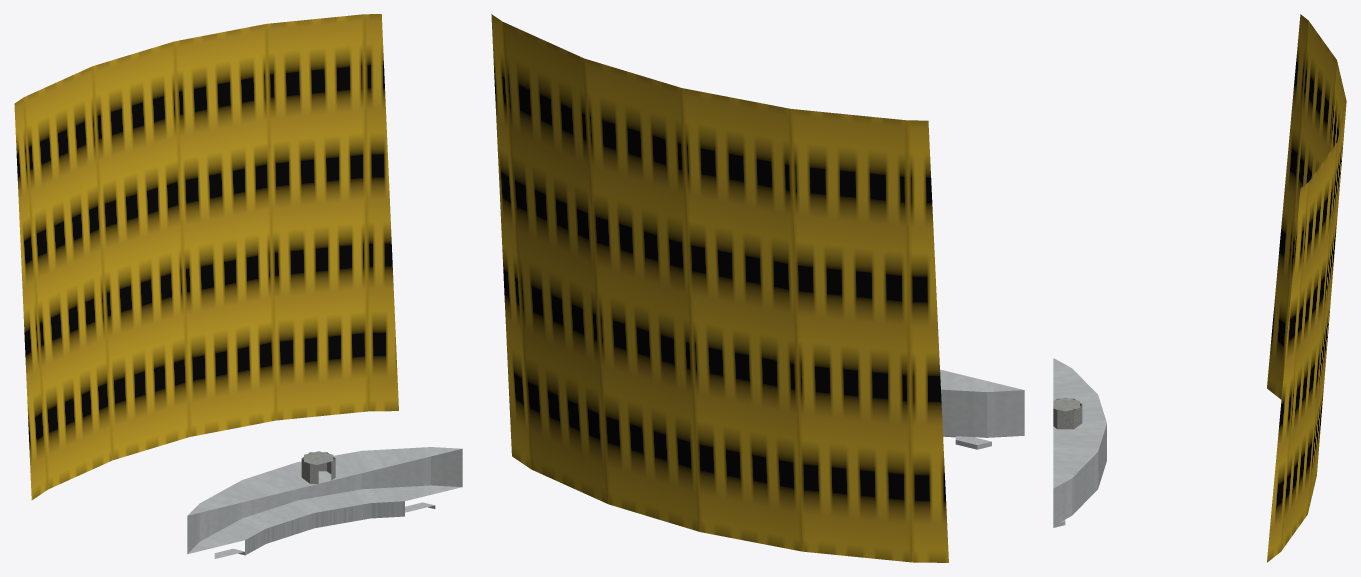
Rendered from cell_107.obj.
3 views of the same model, side by side, from view 1: azimuth 30°, elevation 25°; view 2: azimuth 150°, elevation 25°; view 3: azimuth 270°, elevation 25° (orthographic). The views are drawn at different scales.
Bounding box in the file's own units: 1 × 1 × 0.71.
